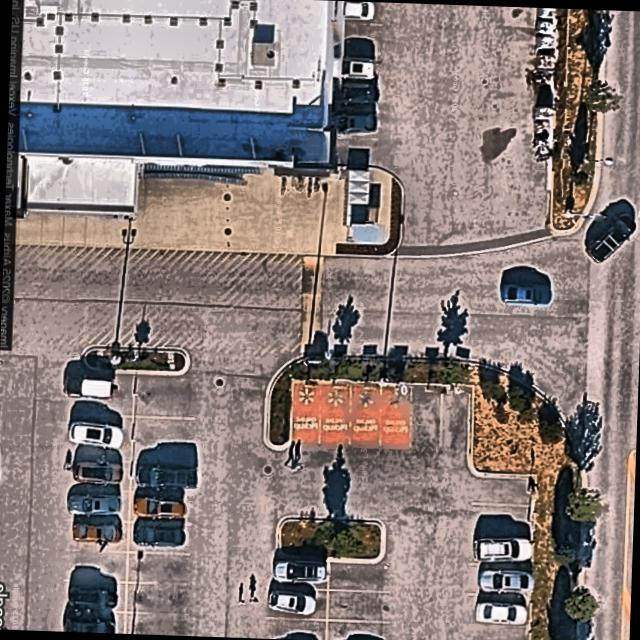car: (135, 464, 196, 488), (66, 421, 121, 447), (473, 537, 531, 561), (131, 494, 182, 520), (62, 375, 112, 400), (478, 568, 530, 592), (65, 584, 116, 608), (65, 492, 123, 513), (133, 524, 183, 548), (267, 591, 316, 615), (270, 561, 323, 583), (70, 521, 123, 543), (73, 461, 123, 483), (63, 613, 113, 633), (475, 603, 525, 621)
lot_boundary: (0, 368, 537, 640)
objects: (468, 383, 535, 476), (277, 516, 383, 560), (266, 378, 290, 449)
stall: (467, 561, 529, 595), (63, 579, 126, 612), (66, 489, 127, 523), (130, 458, 190, 492), (126, 522, 187, 555), (469, 502, 531, 534), (128, 492, 189, 524), (408, 387, 440, 448), (68, 462, 131, 492), (438, 387, 468, 450), (468, 532, 530, 562), (124, 581, 184, 612), (126, 552, 186, 583), (472, 475, 533, 505), (65, 551, 126, 581), (65, 522, 126, 552), (467, 593, 526, 624), (269, 558, 326, 590), (326, 560, 382, 591), (65, 413, 133, 438), (325, 590, 380, 620), (270, 589, 325, 619), (61, 609, 126, 634), (68, 439, 133, 464), (67, 390, 134, 414), (124, 609, 184, 635), (132, 435, 192, 461), (132, 415, 192, 439), (132, 394, 191, 418), (66, 371, 133, 392), (133, 372, 191, 396), (324, 618, 381, 640), (268, 618, 324, 640), (466, 623, 526, 640)
